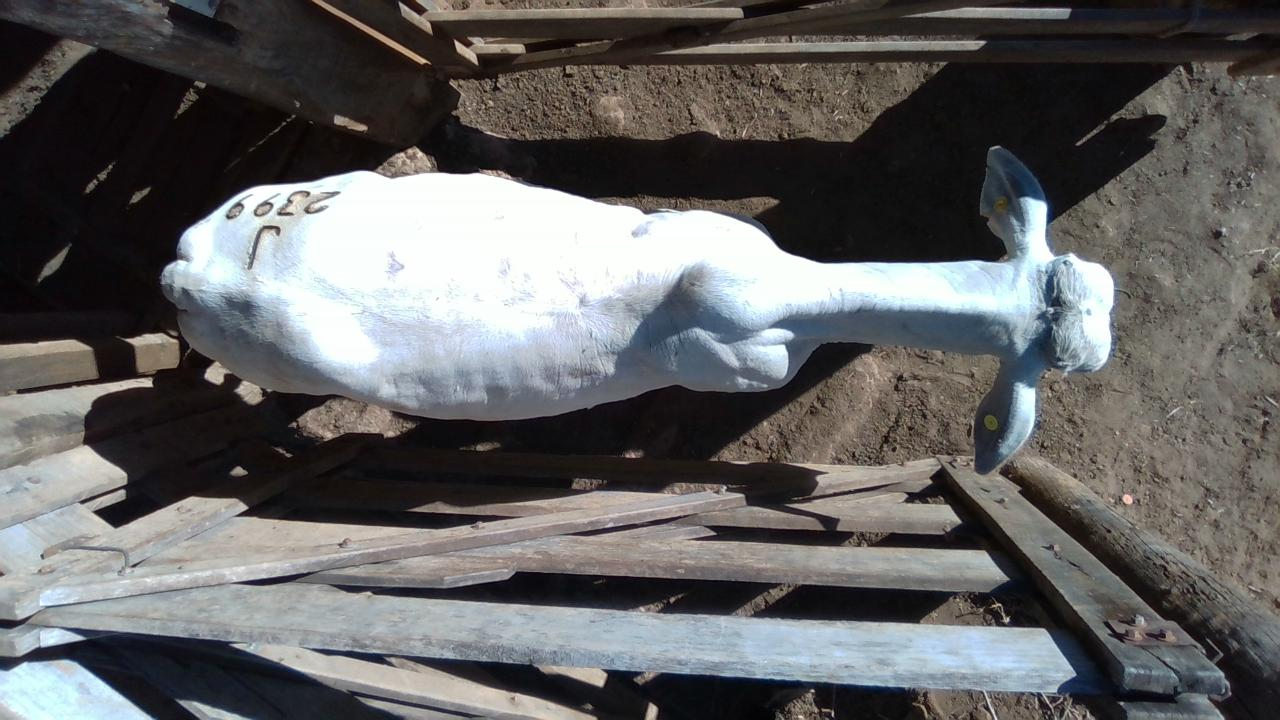cattle: (159, 144, 1116, 476)
